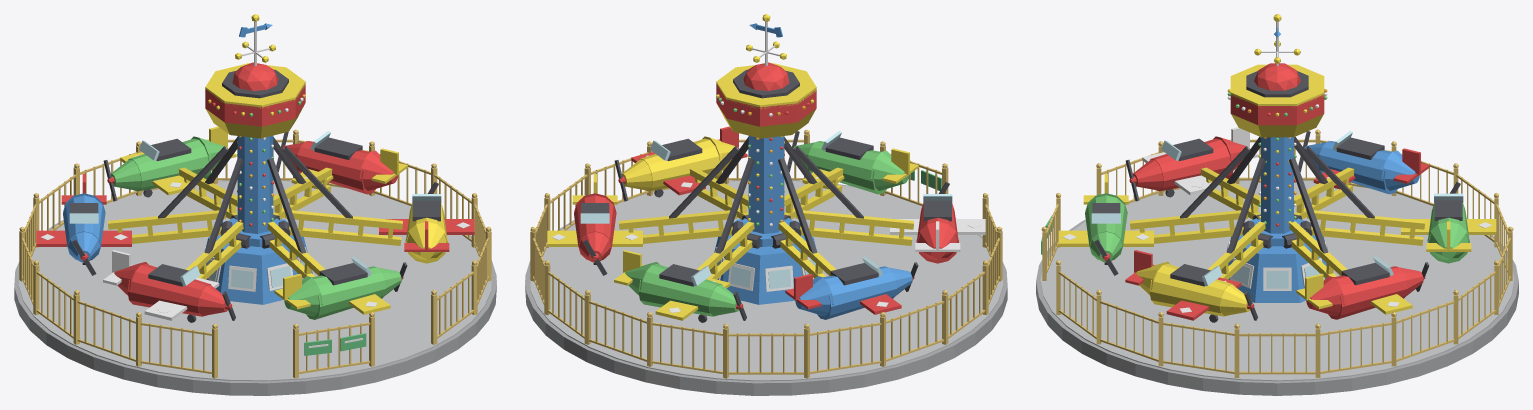
3 views of the same model, side by side, from view 1: azimuth 30°, elevation 25°; view 2: azimuth 150°, elevation 25°; view 3: azimuth 270°, elevation 25° (orthographic).
Parts seen in each view (by area): view 1: base, rotor, hang3, hang4, hang1, hang0, hang2, hang5, tilt5, tilt2, tilt4, tilt3 (+2 smaller); view 2: base, rotor, hang1, hang2, hang5, hang4, hang0, hang3, tilt3, tilt0, tilt2, tilt1 (+2 smaller); view 3: base, rotor, hang5, hang0, hang3, hang2, hang4, hang1, tilt1, tilt4, tilt0, tilt5 (+2 smaller).
Boxes of the visible parts, x1,y1,x2,y2 form: base: (14, 129, 496, 395); rotor: (205, 14, 305, 246); hang3: (103, 250, 235, 322); hang4: (274, 256, 407, 319); hang1: (103, 126, 236, 201); hang0: (276, 131, 407, 194); hang2: (36, 174, 131, 275); hang5: (379, 182, 474, 263); tilt5: (278, 146, 402, 245); tilt2: (108, 146, 232, 243); tilt4: (260, 158, 325, 278); tilt3: (185, 158, 250, 279); base: (525, 129, 1007, 395); rotor: (716, 14, 816, 246); hang1: (614, 250, 746, 322); hang2: (785, 256, 918, 319); hang5: (614, 126, 747, 201); hang4: (787, 131, 918, 194); hang0: (547, 174, 642, 275); hang3: (890, 182, 985, 263); tilt3: (789, 146, 913, 245); tilt0: (619, 146, 743, 243); tilt2: (771, 158, 836, 278); tilt1: (696, 158, 761, 279); base: (1036, 129, 1518, 395); rotor: (1227, 14, 1327, 246); hang5: (1125, 250, 1257, 322); hang0: (1296, 256, 1429, 319); hang3: (1125, 127, 1258, 201); hang2: (1298, 131, 1429, 194); hang4: (1058, 174, 1153, 275); hang1: (1401, 182, 1496, 263); tilt1: (1300, 146, 1424, 245); tilt4: (1130, 146, 1254, 243); tilt0: (1282, 158, 1347, 278); tilt5: (1207, 158, 1272, 279).
Size of the model in its own units: 8.6 by 5.5 by 8.6.
